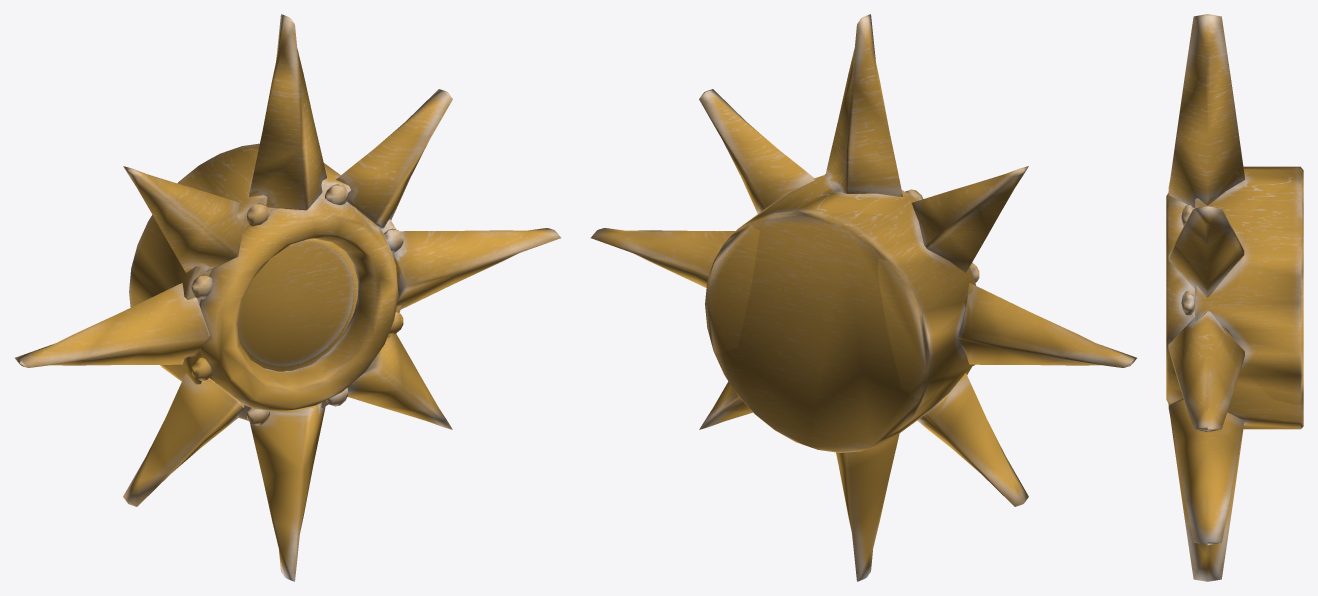
Rendered from Centinela_Emblema.fbx.
3 renders of one model, left to right at view 1: azimuth 30°, elevation 25°; view 2: azimuth 150°, elevation 25°; view 3: azimuth 270°, elevation 25°, orthographic.
Parts seen in each view (by area): view 1: Centinela_Emblema; view 2: Centinela_Emblema; view 3: Centinela_Emblema.
Boxes of the visible parts, left/top/right/bottom form: Centinela_Emblema: left=15, top=14, right=560, bottom=581; Centinela_Emblema: left=591, top=14, right=1136, bottom=581; Centinela_Emblema: left=1166, top=14, right=1303, bottom=581.
Size of the model in its own units: 0.7 by 0.7 by 0.1533.
